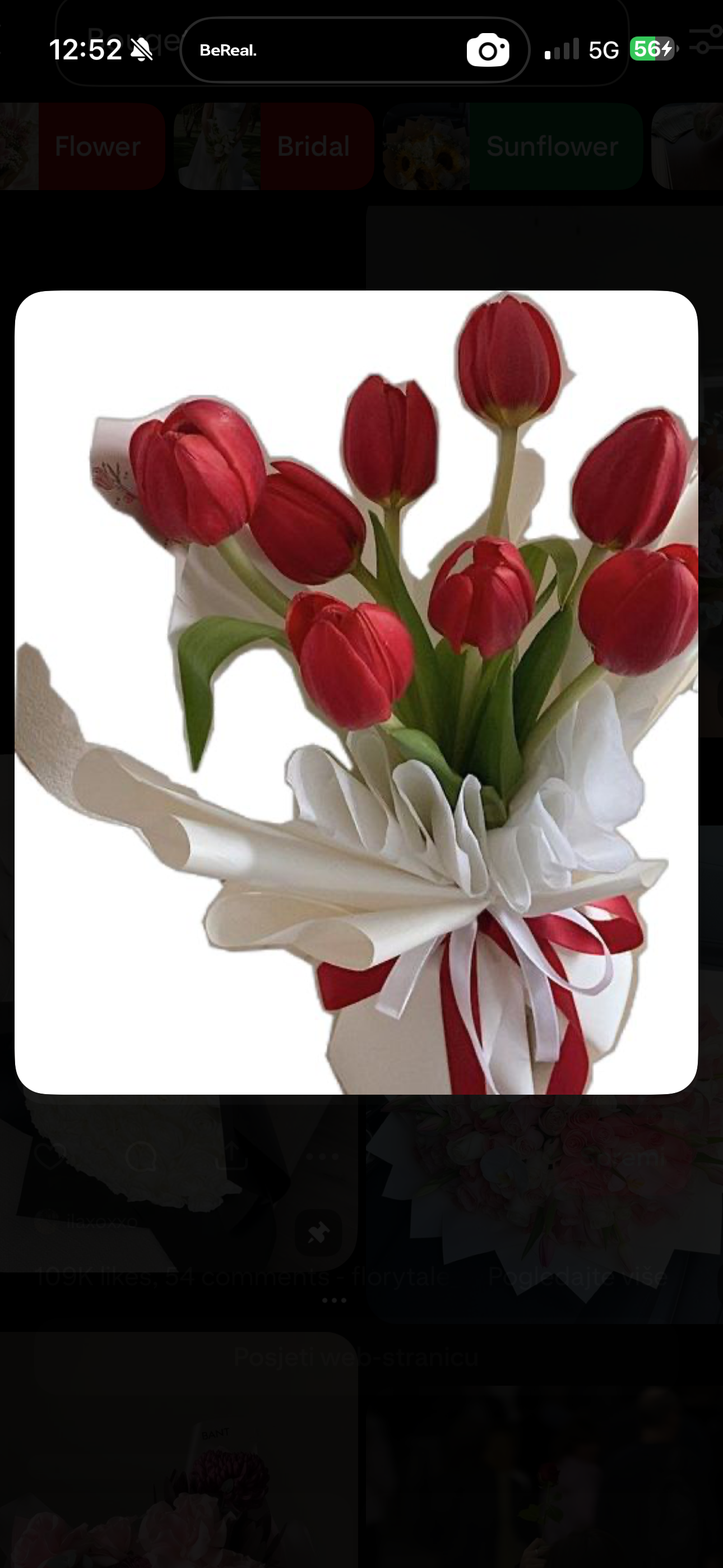tulip: (124, 396, 270, 551), (280, 589, 417, 734), (569, 405, 686, 554), (575, 540, 700, 677), (244, 460, 370, 587), (452, 292, 564, 428), (425, 536, 537, 659), (348, 370, 440, 513)
